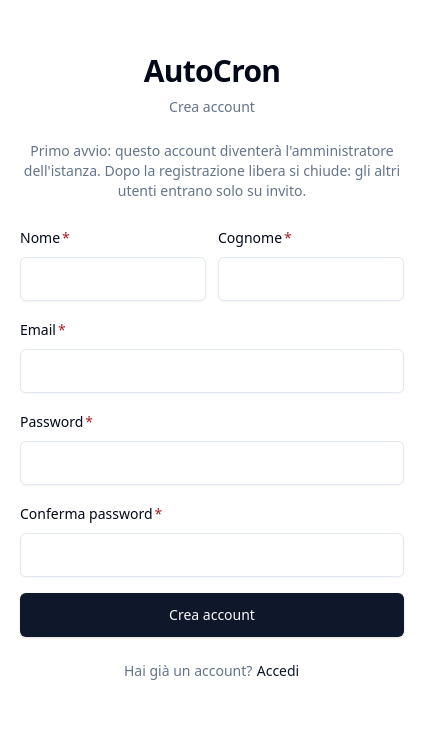
Test: RegisterPage — errori del server › un errore su un campo senza input visibile mostra l'alert generico
This screenshot has width=425, height=741.
Step 1. Type "Anna" into the field labelled "Nome*" → (113, 279), box left=20, top=257, right=206, bottom=301
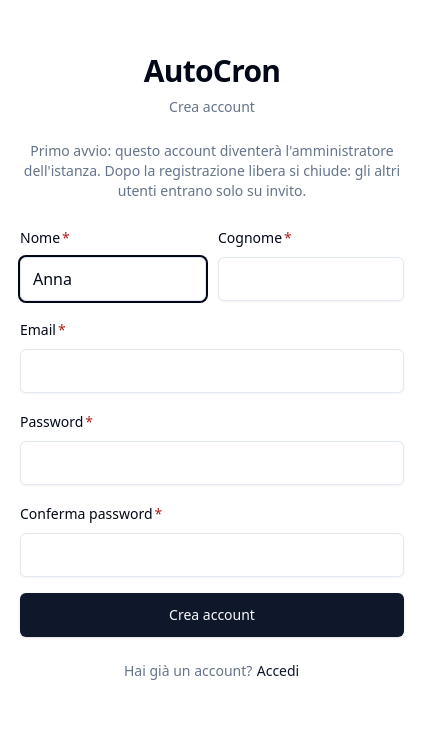
Step 2. Type "Neri" into the field labelled "Cognome*" → (311, 279), box left=218, top=257, right=404, bottom=301
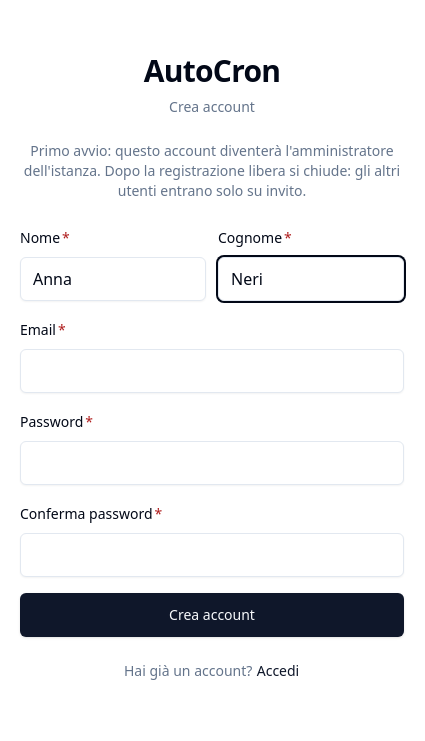
Step 3. Type "anna@test.it" into the field labelled "Email*" → (212, 371), box left=20, top=349, right=404, bottom=393
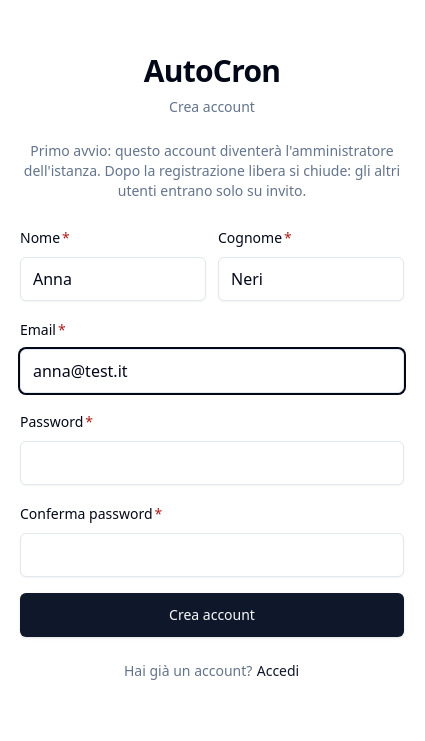
Step 4. Type "segreta-123" into the password field labelled "Password*" → (212, 463), box left=20, top=441, right=404, bottom=485
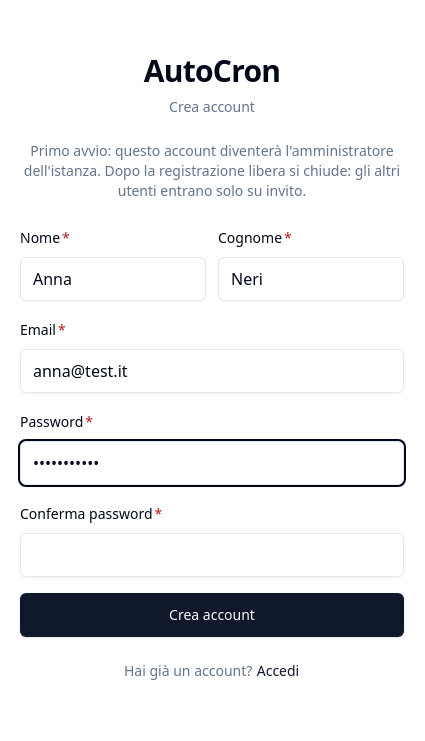
Step 5. Type "segreta-123" into the password field labelled "Conferma password*" → (212, 555), box left=20, top=533, right=404, bottom=577
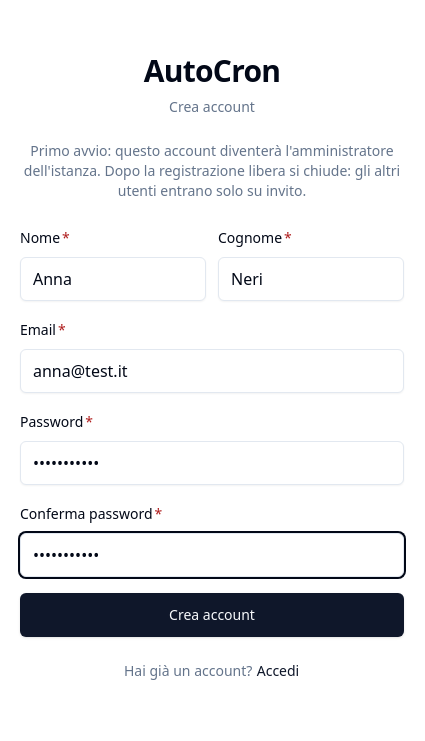
Step 6. Click the button "Crea account" → (212, 615), box left=20, top=593, right=404, bottom=637
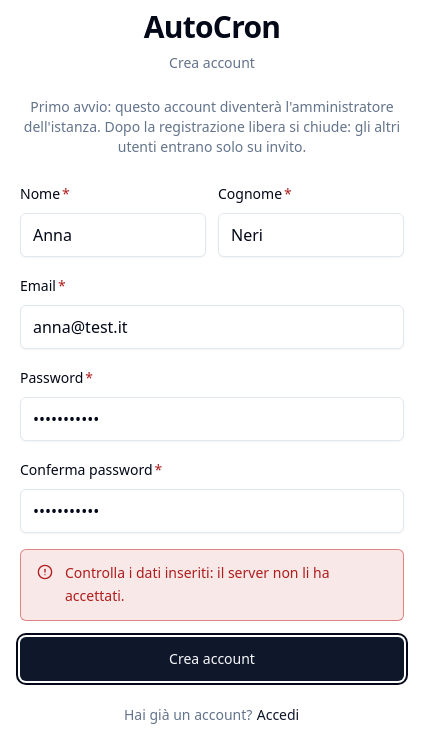
Expected: the message "Controlla i dati inseriti: il server non li ha accettati." is shown, left=20, top=549, right=404, bottom=621
